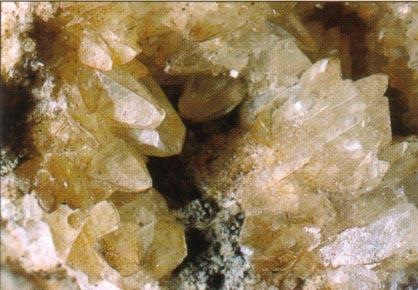calcite: (250, 59, 418, 290), (0, 174, 90, 274), (95, 72, 166, 128), (79, 37, 113, 70)
